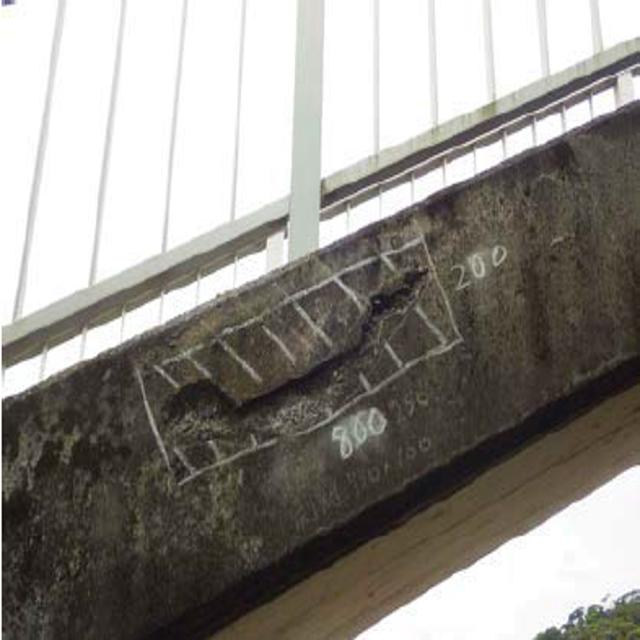spalling: (150, 261, 441, 450)
